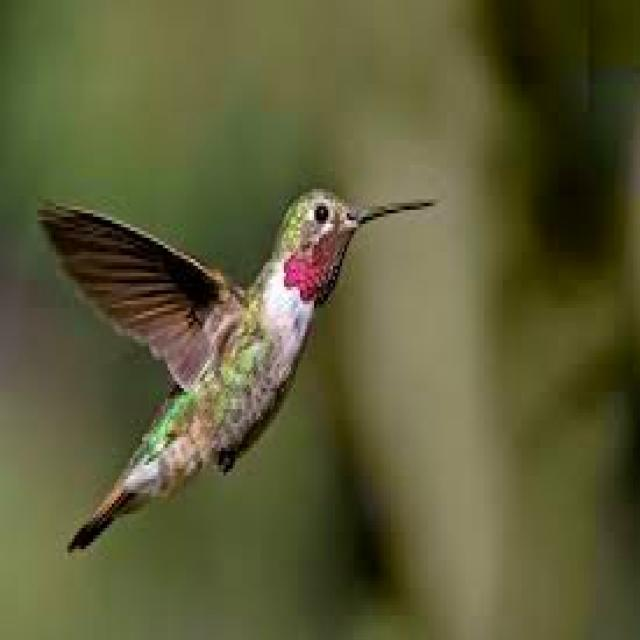hummingbird: (40, 189, 433, 546)
